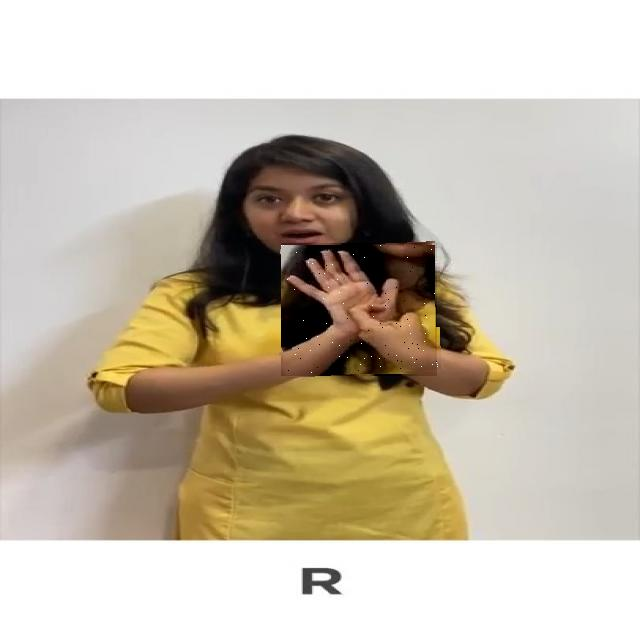R: (282, 243, 439, 376)
